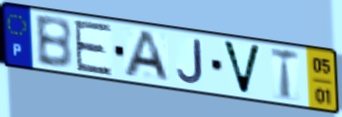A: (121, 29, 173, 84)
B: (33, 15, 75, 71)
E: (72, 19, 114, 77)
J: (175, 38, 206, 87)
T: (269, 45, 301, 103)
V: (220, 38, 264, 98)
